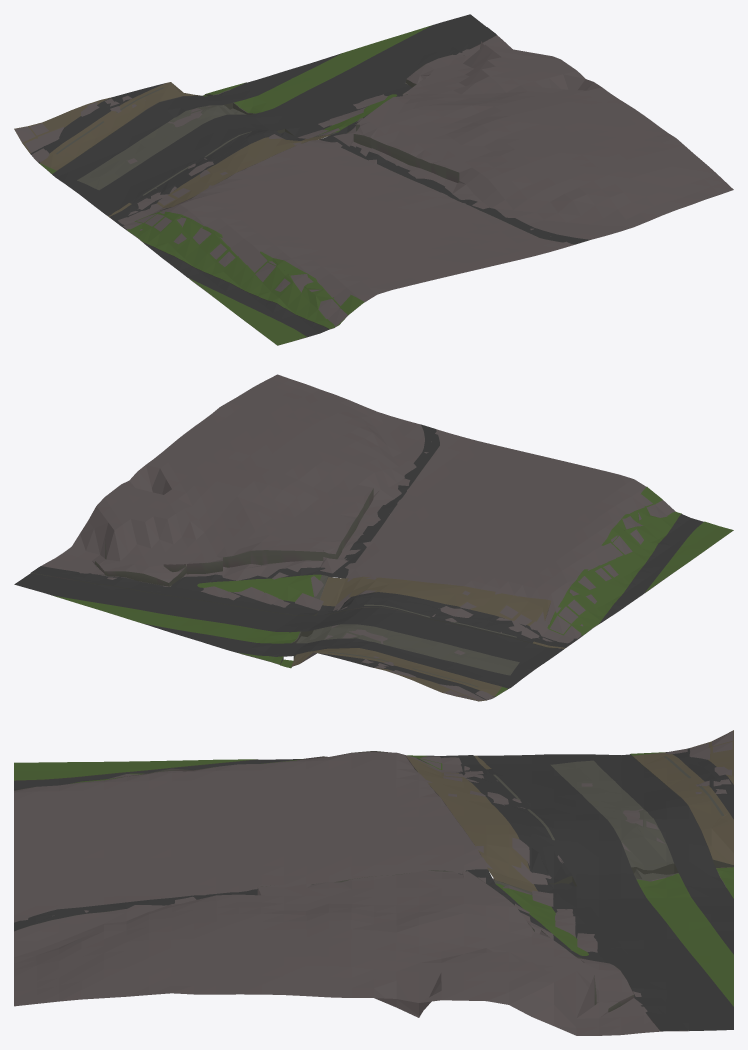
3 views of the same model, one above another, from view 1: azimuth 30°, elevation 25°; view 2: azimuth 150°, elevation 25°; view 3: azimuth 270°, elevation 25° (orthographic). The views are drawn at different scales.
Visible parts, largest first — view 1: c_m07_m14; view 2: c_m07_m14; view 3: c_m07_m14.
Part boxes in pixels (x1=…): c_m07_m14: x1=14, y1=14, x2=733, y2=345; c_m07_m14: x1=14, y1=374, x2=733, y2=701; c_m07_m14: x1=14, y1=730, x2=733, y2=1035.
Bounding box in the file's own units: 128 × 14.48 × 128.
